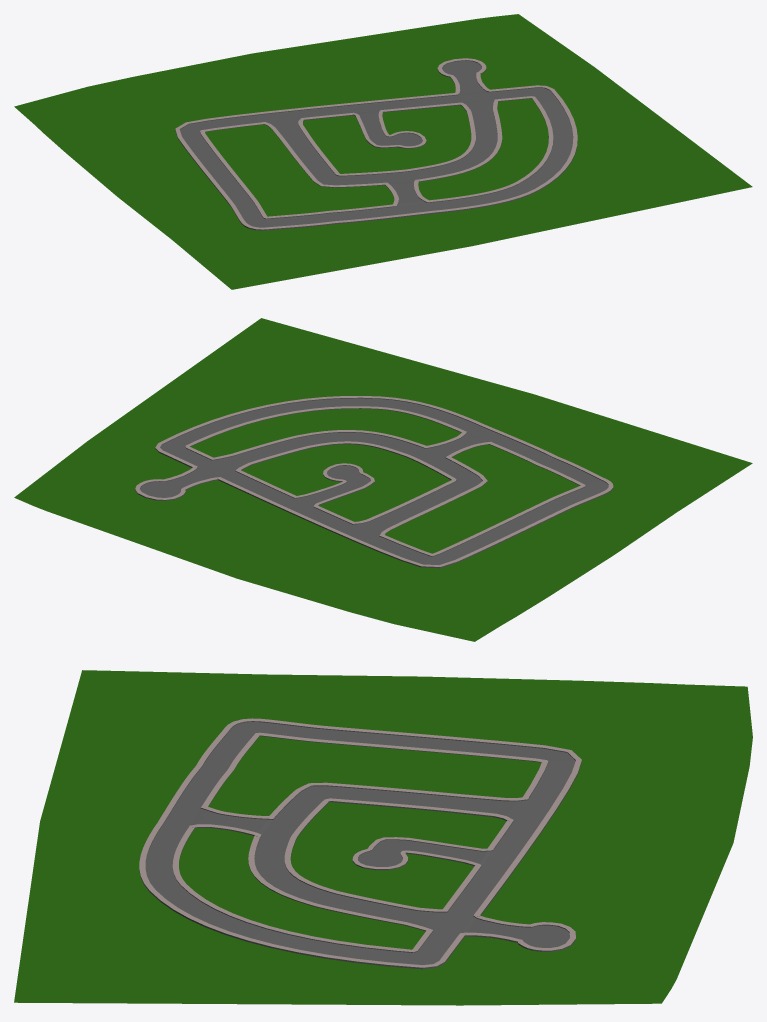
Rendered from real final roads.fbx.
The picture shows the model from 3 angles, top to bottom: view 1: azimuth 30°, elevation 25°; view 2: azimuth 150°, elevation 25°; view 3: azimuth 270°, elevation 25°; orthographic projection. The views are drawn at different scales.
Visible parts, largest first — view 1: Plane.004, BézierCurve.005, Plane.002, Plane.001, BézierCurve.001, Plane.003, BézierCurve.004, BézierCurve.003, BézierCurve.002; view 2: Plane.004, BézierCurve.005, Plane.002, Plane.001, BézierCurve.001, Plane.003, BézierCurve.004, BézierCurve.003, BézierCurve.002; view 3: Plane.004, BézierCurve.005, Plane.002, Plane.001, BézierCurve.001, Plane.003, BézierCurve.004, BézierCurve.003, BézierCurve.002.
Part boxes in pixels (x1=…): Plane.004: x1=14, y1=14, x2=752, y2=289; BézierCurve.005: x1=175, y1=85, x2=577, y2=230; Plane.002: x1=205, y1=124, x2=394, y2=216; Plane.001: x1=303, y1=105, x2=471, y2=173; BézierCurve.001: x1=264, y1=100, x2=502, y2=187; Plane.003: x1=418, y1=98, x2=548, y2=200; BézierCurve.004: x1=353, y1=110, x2=426, y2=148; BézierCurve.003: x1=437, y1=58, x2=493, y2=95; BézierCurve.002: x1=383, y1=179, x2=431, y2=206; Plane.004: x1=14, y1=318, x2=752, y2=641; BézierCurve.005: x1=155, y1=396, x2=613, y2=568; Plane.002: x1=385, y1=444, x2=579, y2=553; Plane.001: x1=242, y1=444, x2=450, y2=521; BézierCurve.001: x1=209, y1=430, x2=487, y2=537; Plane.003: x1=190, y1=408, x2=460, y2=457; BézierCurve.004: x1=294, y1=463, x2=374, y2=507; BézierCurve.003: x1=135, y1=465, x2=219, y2=500; BézierCurve.002: x1=422, y1=430, x2=491, y2=458; Plane.004: x1=14, y1=670, x2=752, y2=1005; BézierCurve.005: x1=139, y1=718, x2=581, y2=969; Plane.002: x1=208, y1=736, x2=541, y2=815; Plane.001: x1=290, y1=802, x2=506, y2=909; BézierCurve.001: x1=248, y1=782, x2=529, y2=932; Plane.003: x1=179, y1=828, x2=425, y2=949; BézierCurve.004: x1=352, y1=837, x2=493, y2=870; BézierCurve.003: x1=458, y1=915, x2=575, y2=951; BézierCurve.002: x1=189, y1=806, x2=273, y2=837.
Bounding box in the file's own units: 93974 × 841 × 86013.
